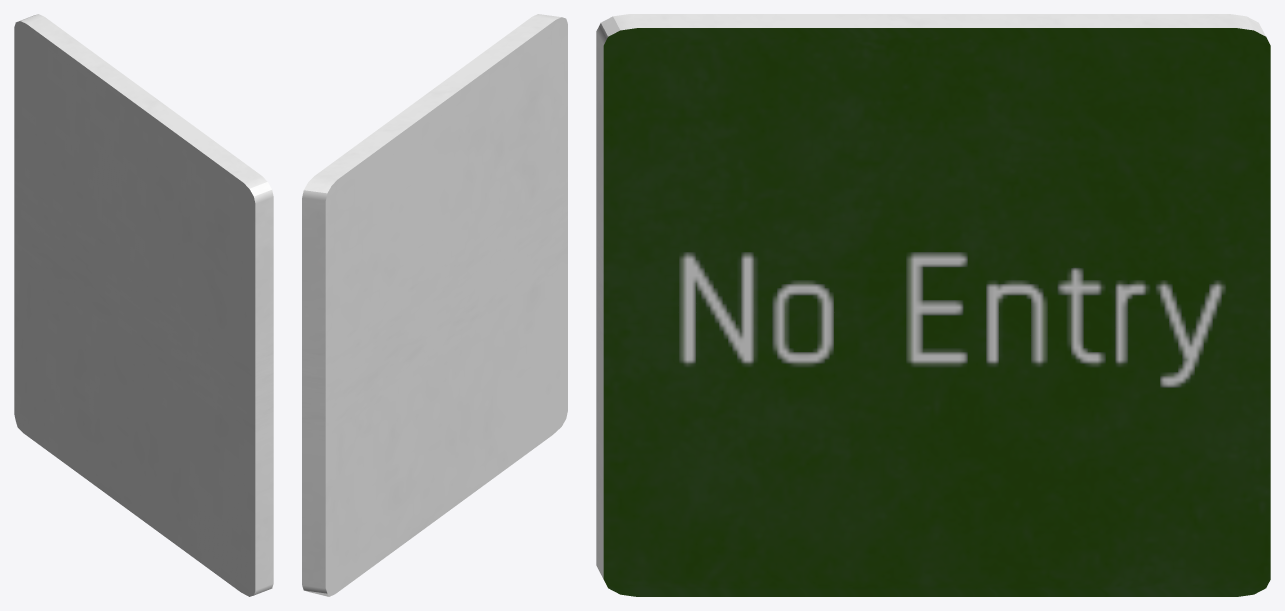
File: No entry sign.fbx
3 renders of one model, left to right at view 1: azimuth 30°, elevation 25°; view 2: azimuth 150°, elevation 25°; view 3: azimuth 270°, elevation 25°, orthographic. The views are drawn at different scales.
Parts seen in each view (by area): view 1: pCube36; view 2: pCube36; view 3: pCube36.
Boxes of the visible parts, x1,y1,x2,y2 form: pCube36: [14, 14, 273, 596]; pCube36: [302, 14, 567, 596]; pCube36: [596, 14, 1270, 596].
Bounding box in the file's own units: 0.0309 × 0.5799 × 0.623.
Materials: 1 (1 with a texture image).
